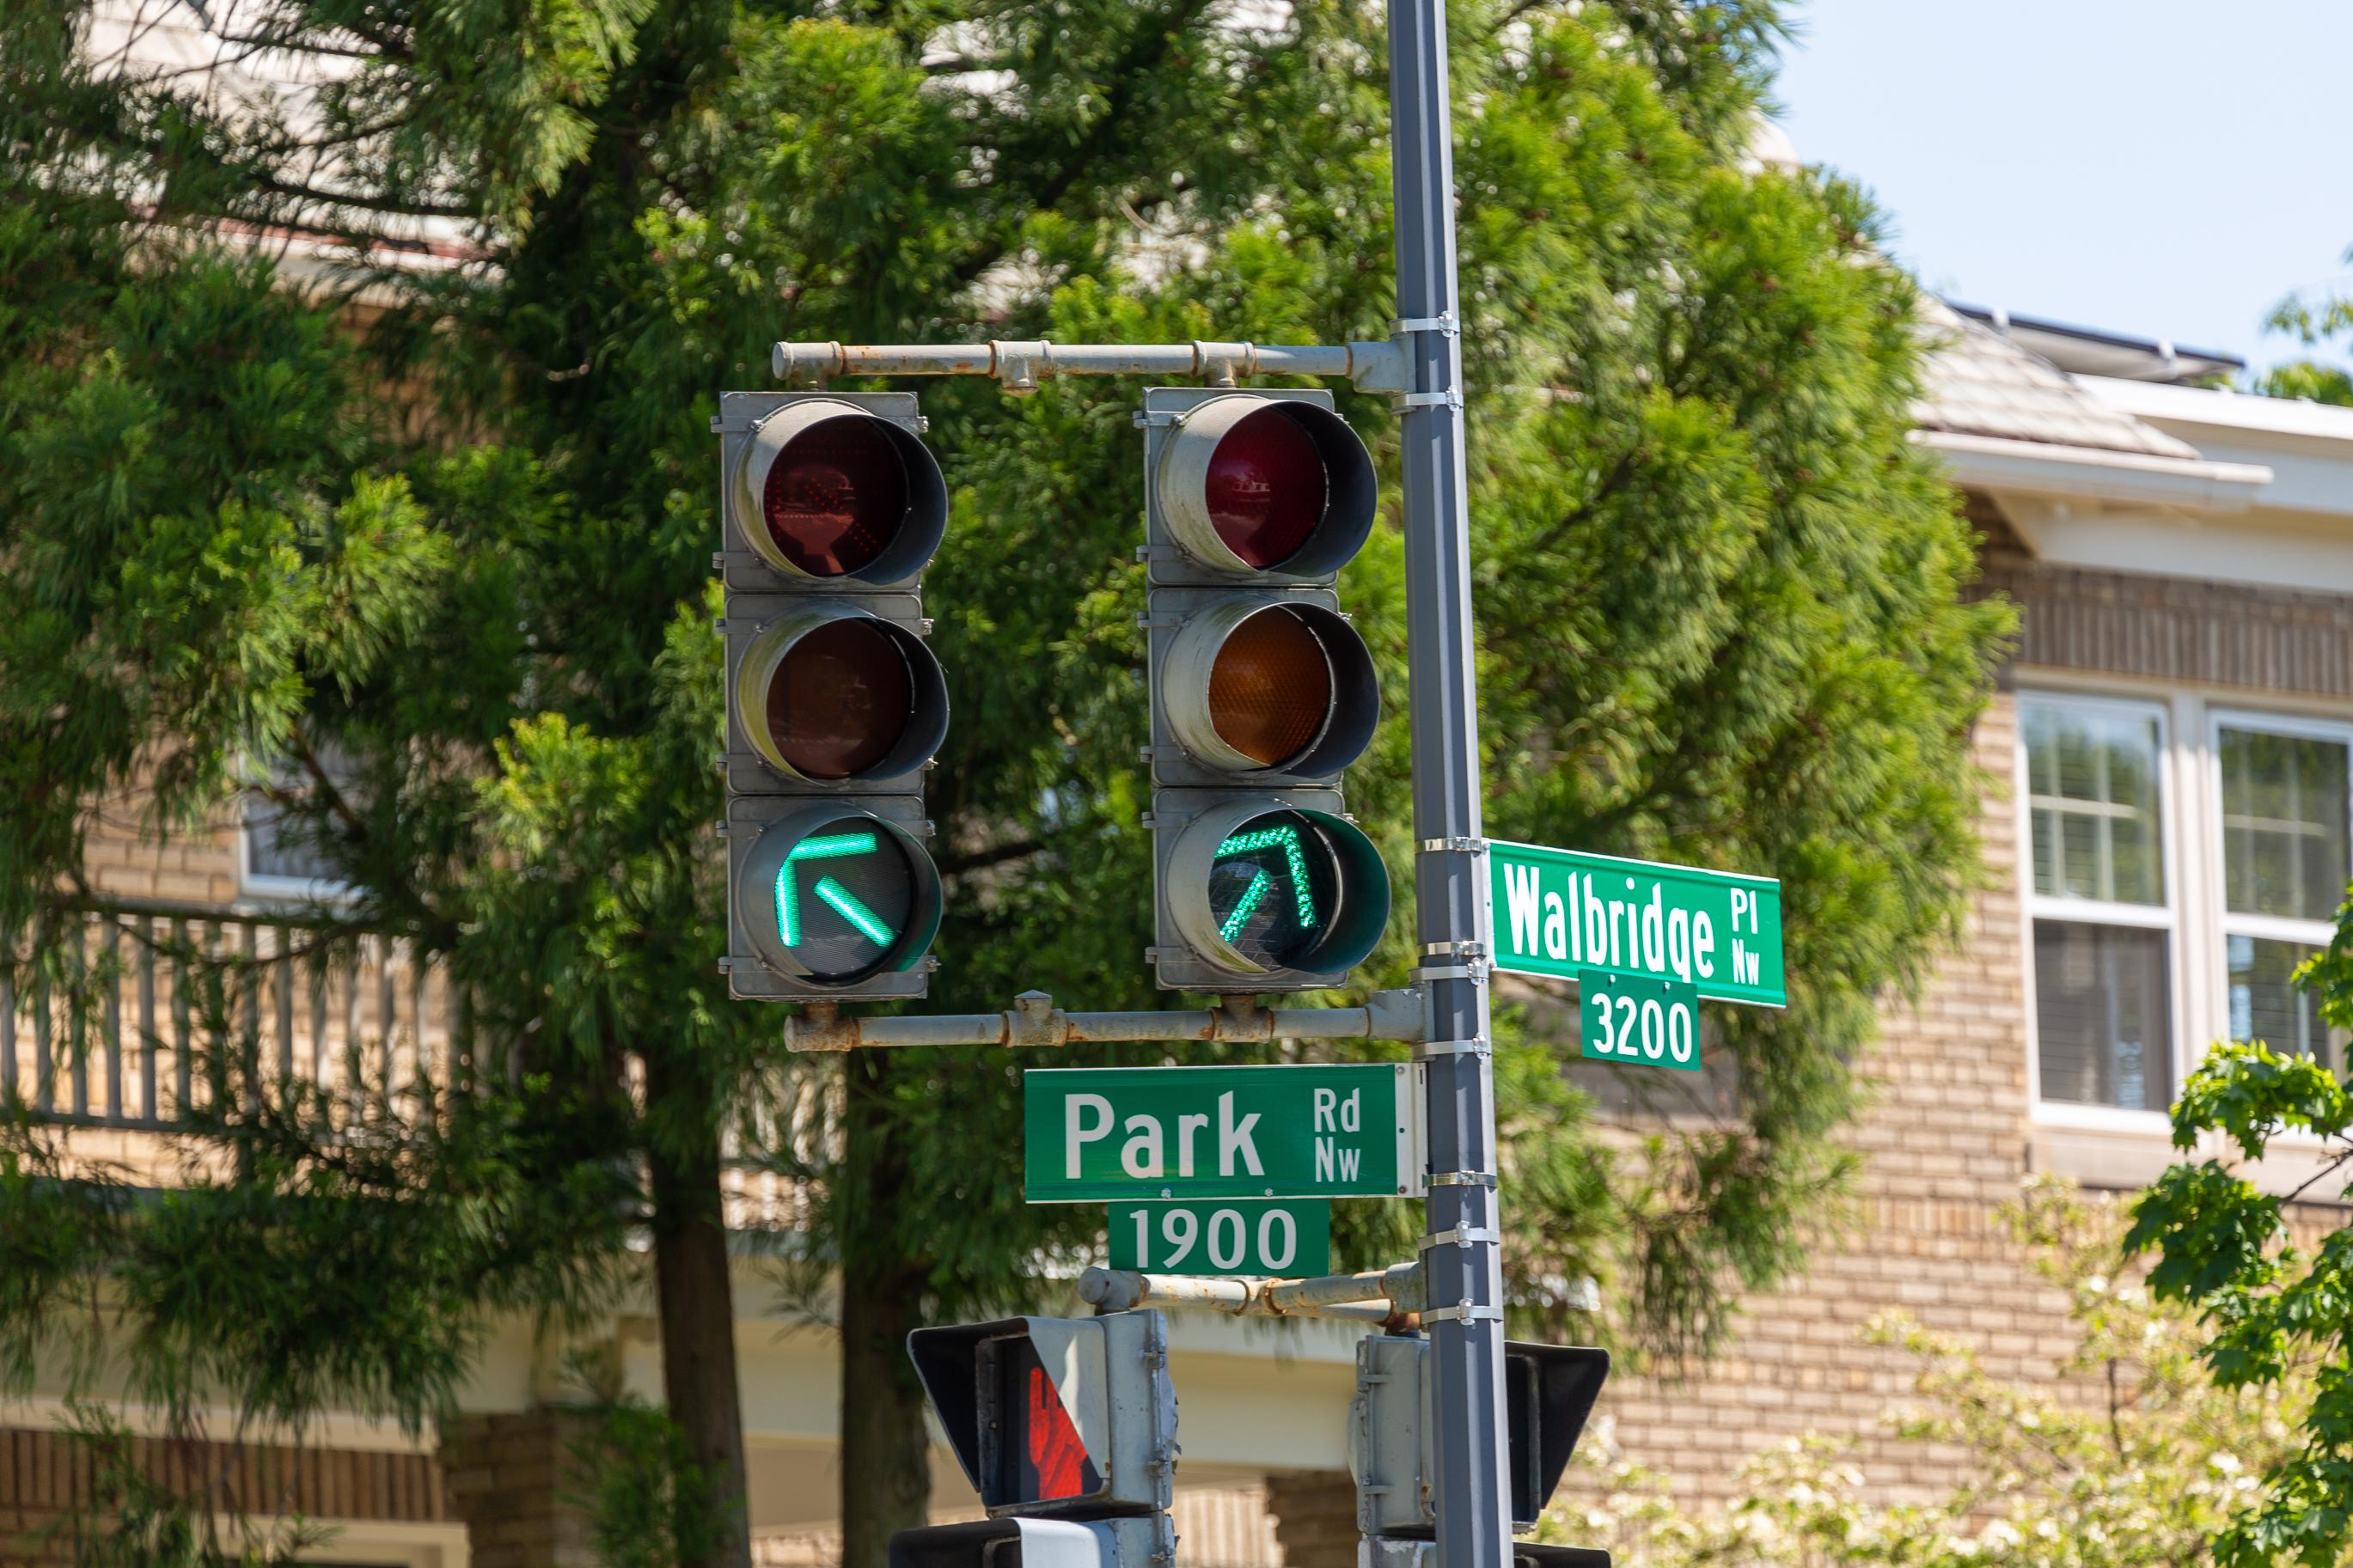traffic light: (678, 352, 1033, 1055), (1112, 364, 1406, 984), (865, 1276, 1189, 1568)
traffic sign: (989, 1038, 1507, 1300), (1444, 808, 1854, 1099)
